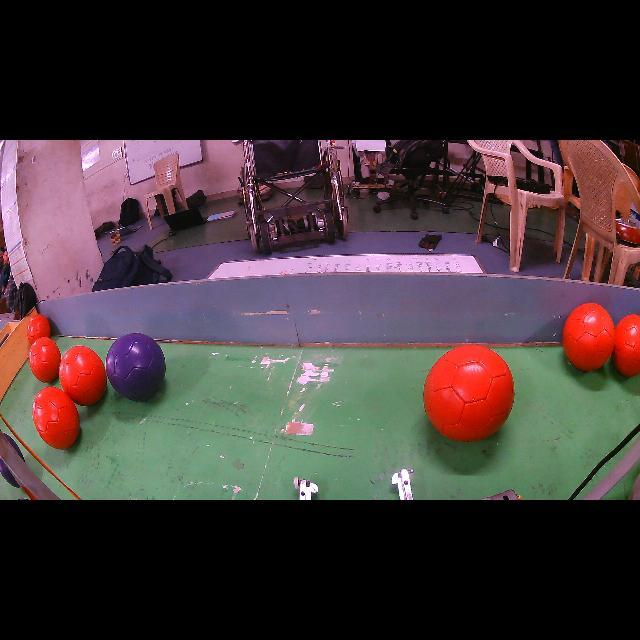P: (105, 332, 165, 401)
R: (424, 345, 515, 441), (562, 302, 615, 371), (32, 386, 80, 449), (59, 346, 106, 406), (611, 315, 640, 376), (29, 336, 61, 382), (28, 314, 51, 344)
